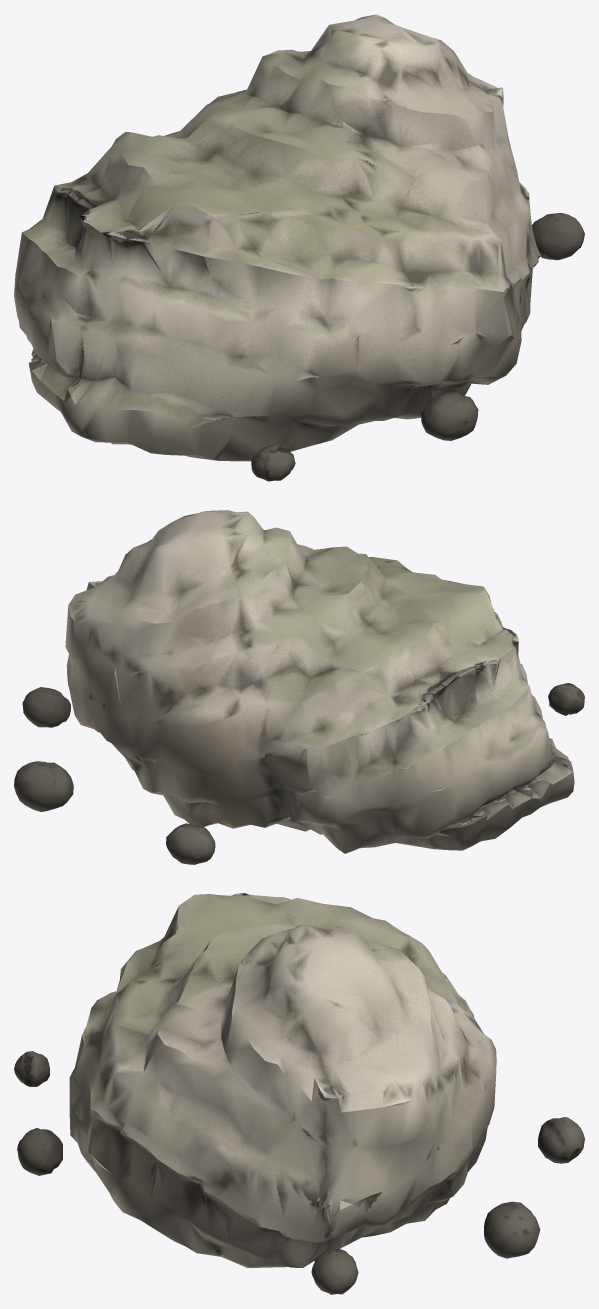
The model's file is costa_rocha_b.glb.
The picture shows the model from 3 angles, top to bottom: view 1: azimuth 30°, elevation 25°; view 2: azimuth 150°, elevation 25°; view 3: azimuth 270°, elevation 25°; orthographic projection. The views are drawn at different scales.
Visible parts, largest first — view 1: costa_rocha_b; view 2: costa_rocha_b; view 3: costa_rocha_b.
Boxes of the visible parts, x1,y1,x2,y2 form: costa_rocha_b: (14,14,584,481); costa_rocha_b: (14,510,584,864); costa_rocha_b: (14,893,584,1294).
Size of the model in its own units: 2.18 by 1.12 by 1.99.
Materials: 1 (1 with a texture image).
